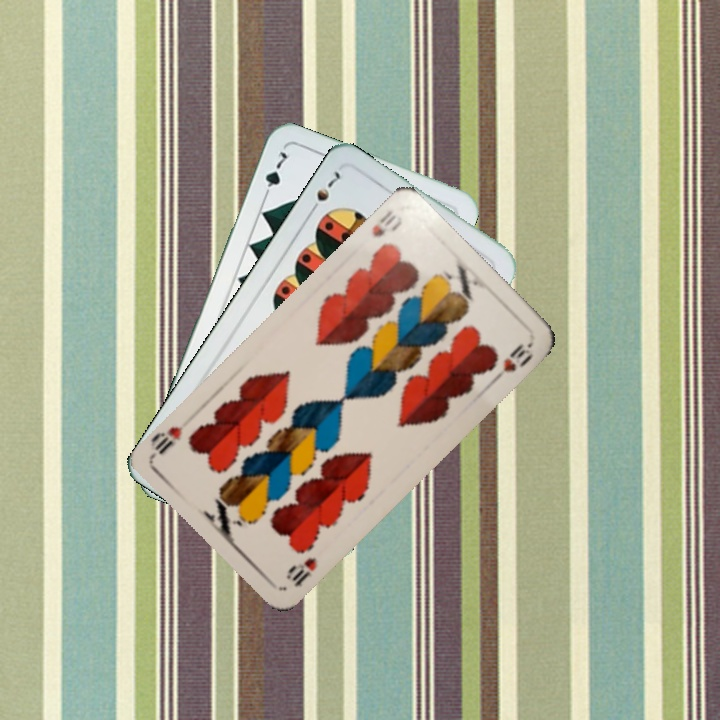G7: (258, 147, 290, 203)
H10: (282, 553, 320, 590), (368, 206, 405, 240)
S7: (305, 167, 345, 217)
